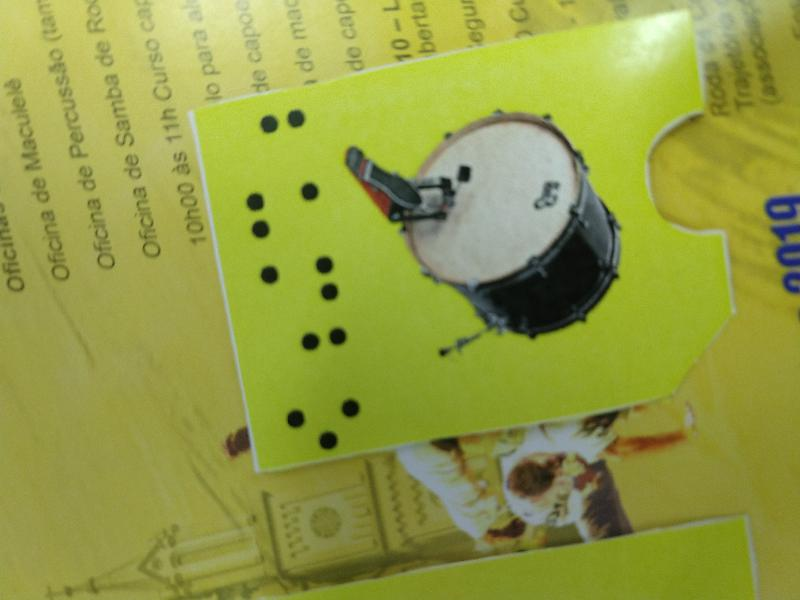bumbo: (181, 12, 732, 476)
